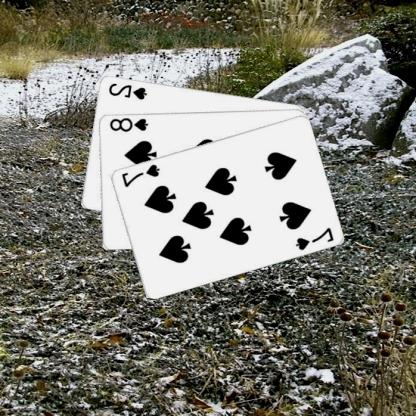2S: (107, 80, 150, 101)
7S: (295, 224, 336, 252), (120, 162, 162, 188)
8S: (108, 115, 151, 132)
